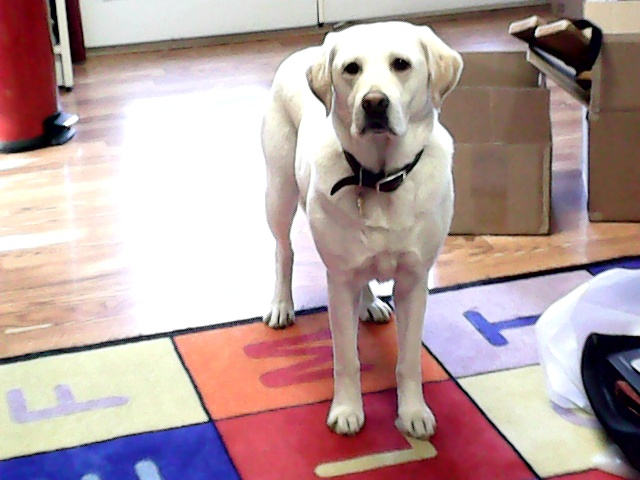dog: (254, 18, 465, 442)
